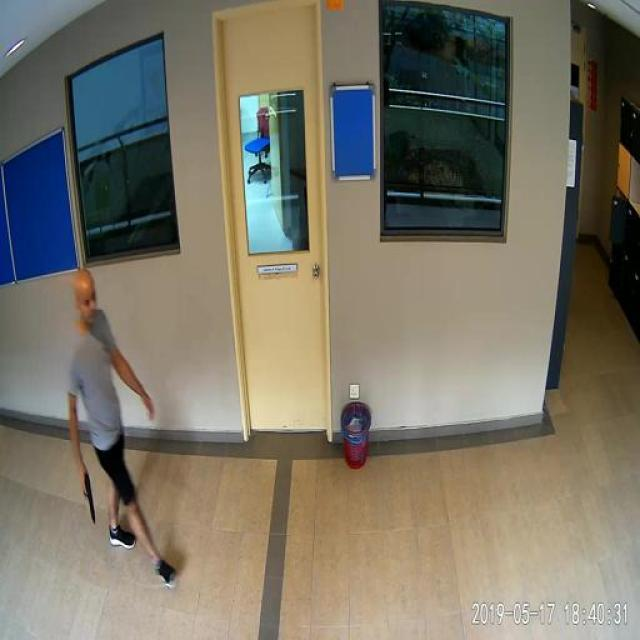Gun: (72, 468, 110, 532)
